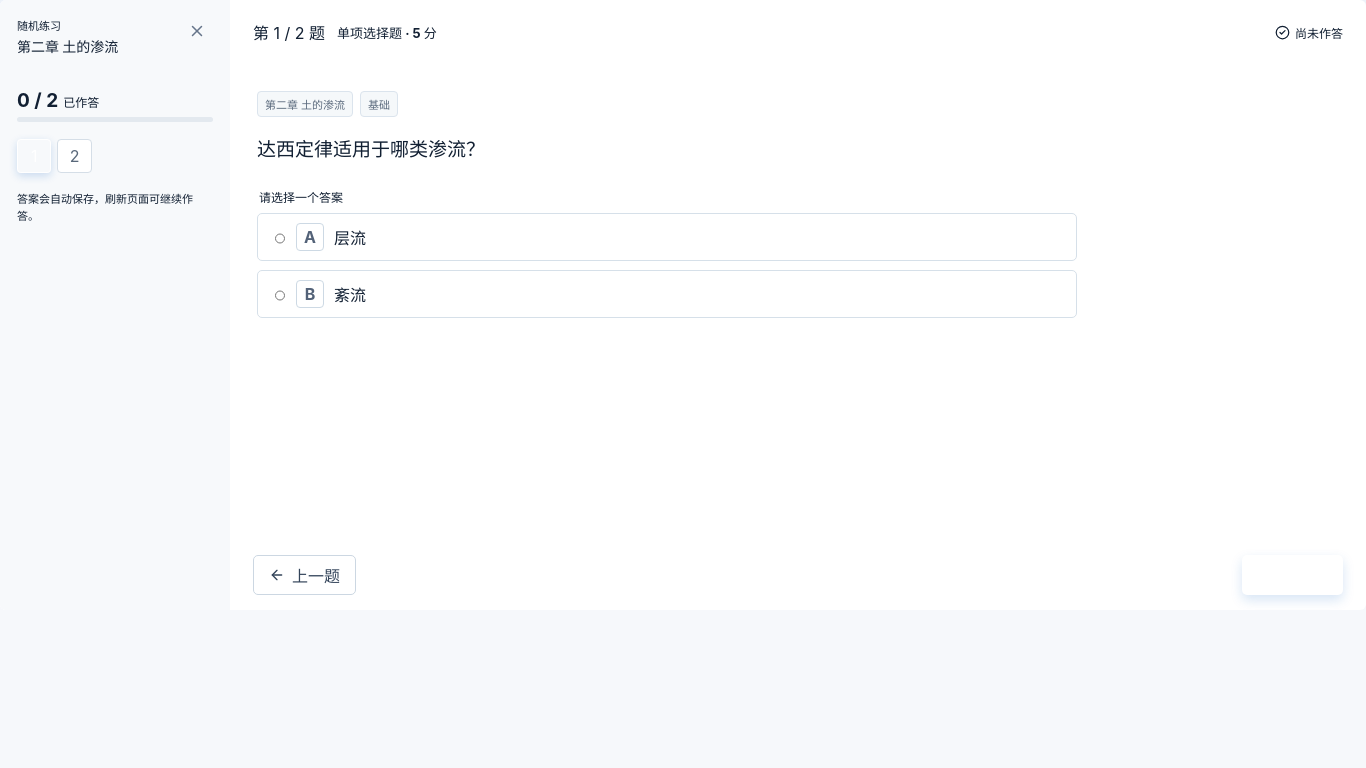
Scenario: 离线保存失败时禁止跨题，避免把未同步答案留在上一题
This screenshot has width=1366, height=768.
What coordinates should you click on to do the following:
click the radio button with aria-label "A. 层流"
I would click on:
 (280, 239)
Its box is 275,232 -> 285,245.
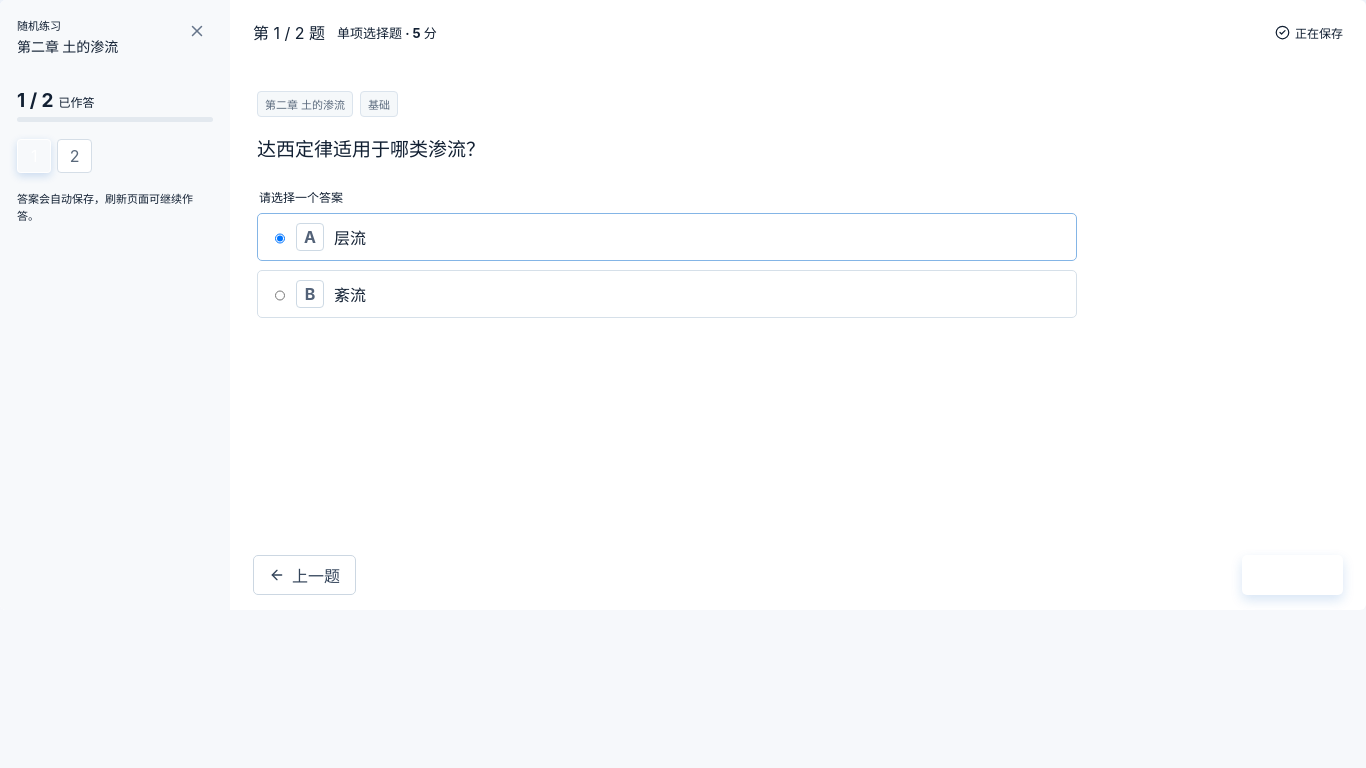
What coordinates should you click on to do the following:
click the button "下一题"
I would click on:
 (1292, 575)
Its box is 1242,555 -> 1343,595.
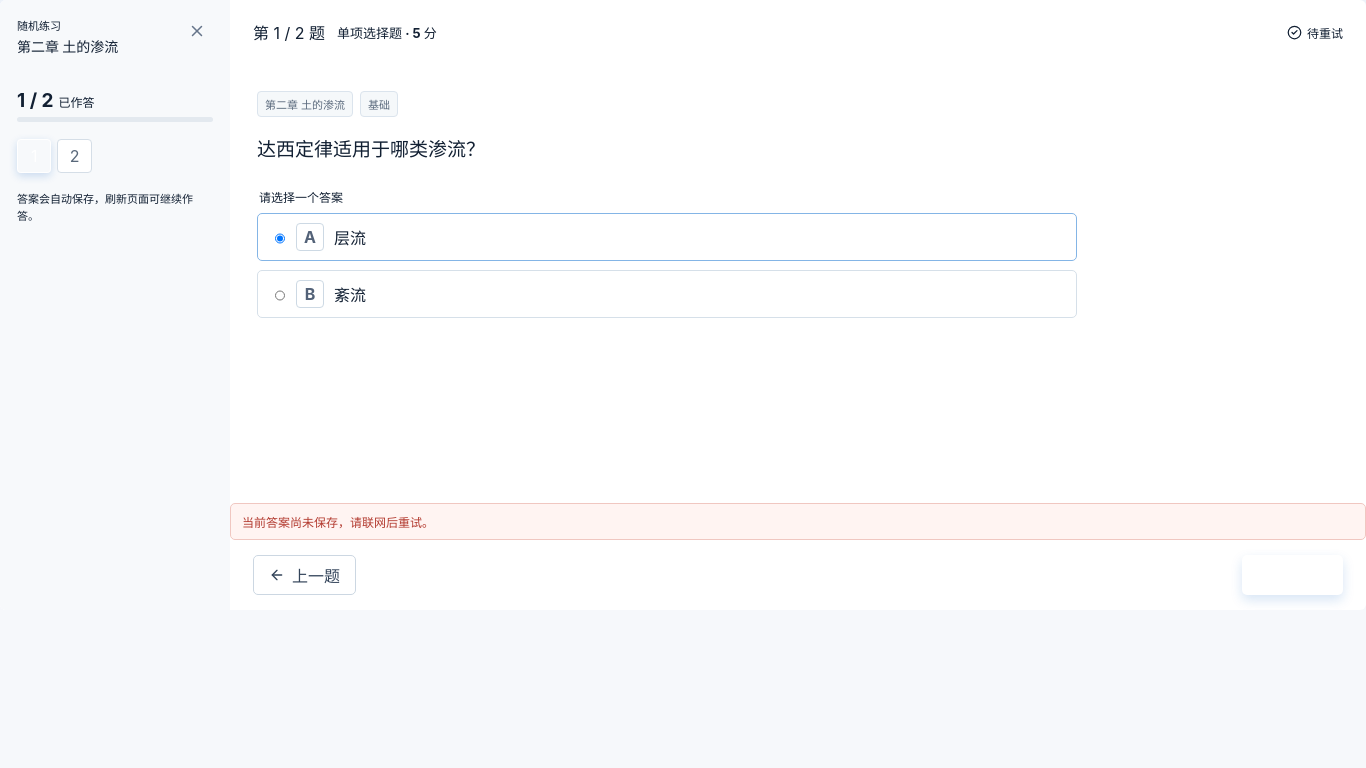
Expected: the heading "达西定律适用于哪类渗流？" is shown, 257,138 -> 485,161
Result: the text "当前答案尚未保存，请联网后重试。" is shown at 230,503 -> 1365,540
